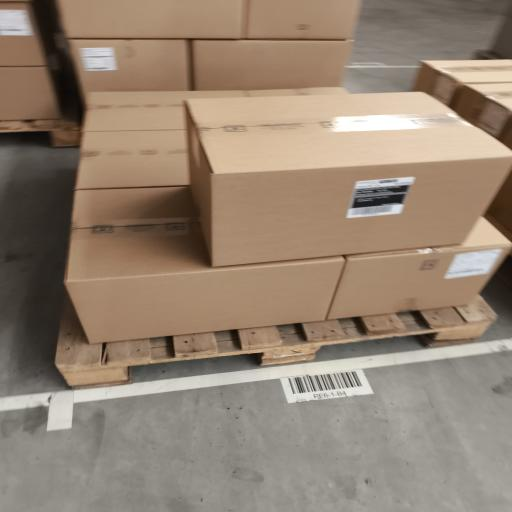pallet: (56, 297, 496, 387), (0, 120, 80, 147), (497, 256, 511, 288)
